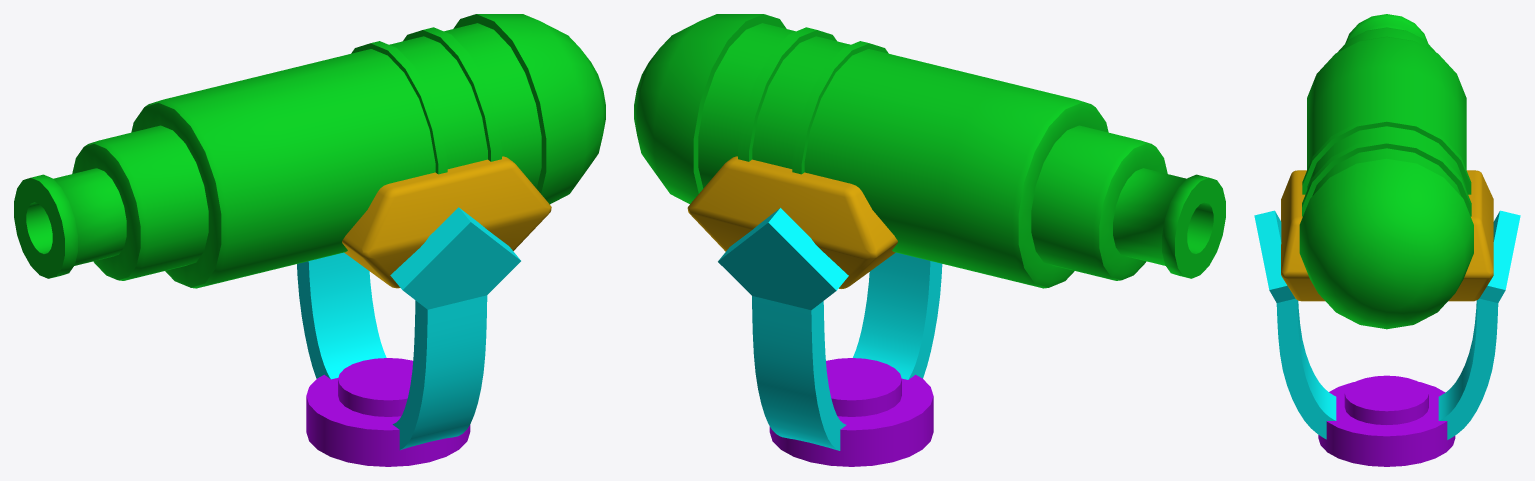
The model's file is harpoon.FBX.
The picture shows the model from 3 angles, left to right: view 1: azimuth 30°, elevation 25°; view 2: azimuth 150°, elevation 25°; view 3: azimuth 270°, elevation 25°; orthographic projection. The views are drawn at different scales.
Visible parts, largest first — view 1: Cylinder001, Box004, Box001, Cylinder002; view 2: Cylinder001, Box004, Box001, Cylinder002; view 3: Cylinder001, Box004, Cylinder002, Box001.
Part boxes in pixels (box(x1,y1,x2,y2)): Cylinder001: box(14, 14, 605, 288); Box004: box(297, 207, 520, 449); Box001: box(342, 156, 551, 288); Cylinder002: box(306, 358, 470, 466); Cylinder001: box(634, 14, 1225, 288); Box004: box(718, 208, 942, 450); Box001: box(687, 156, 897, 288); Cylinder002: box(769, 358, 933, 466); Cylinder001: box(1299, 14, 1473, 329); Box004: box(1254, 210, 1520, 439); Cylinder002: box(1318, 375, 1455, 466); Box001: box(1281, 170, 1493, 301).
Size of the model in its own units: 1283 by 857 by 641.
